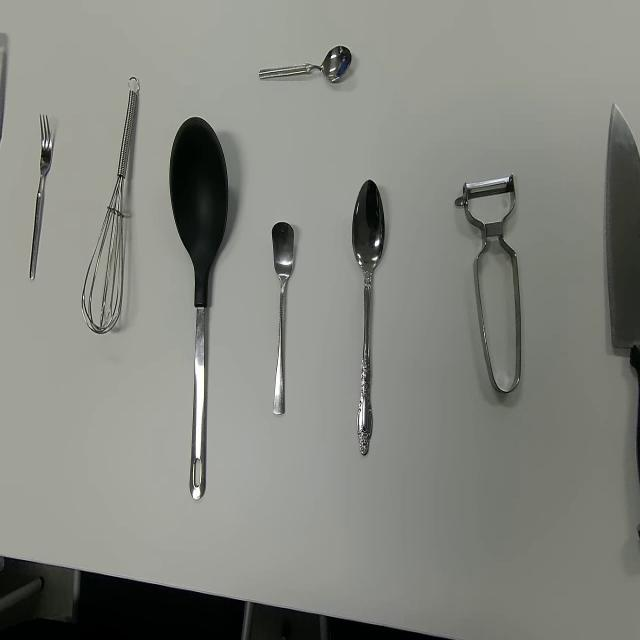Desert-Spoon: (351, 178, 386, 458)
Dinner-Fork: (28, 111, 54, 282)
Kitchen-Knife: (604, 100, 640, 545)
Peeler: (453, 172, 522, 394)
Serving-Spoon: (168, 114, 230, 502)
Tea-Spoon: (271, 220, 295, 417), (258, 44, 352, 85)
Whisk: (80, 74, 140, 336)
